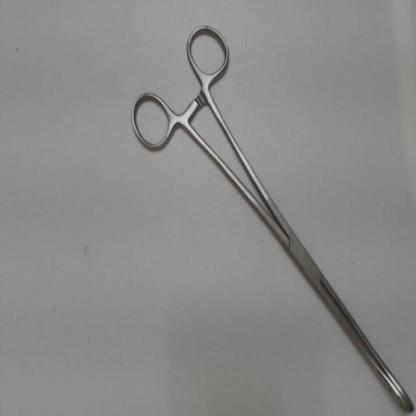Sponge Forceps: (125, 16, 415, 414)
